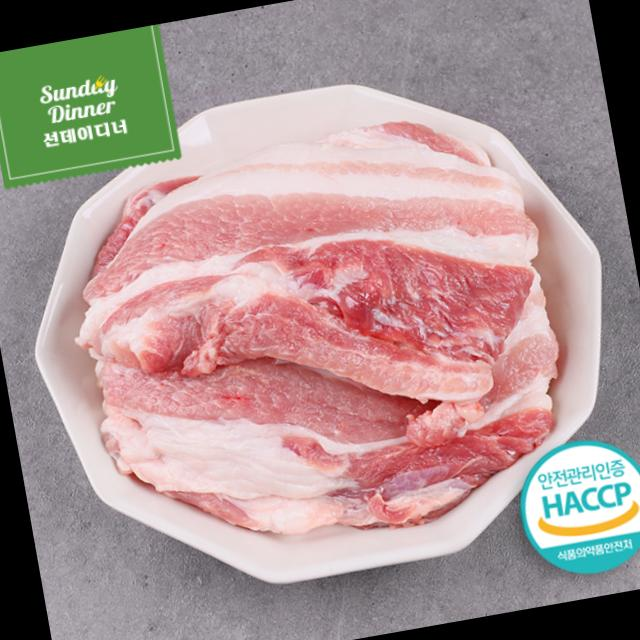pork: (44, 100, 564, 460)
